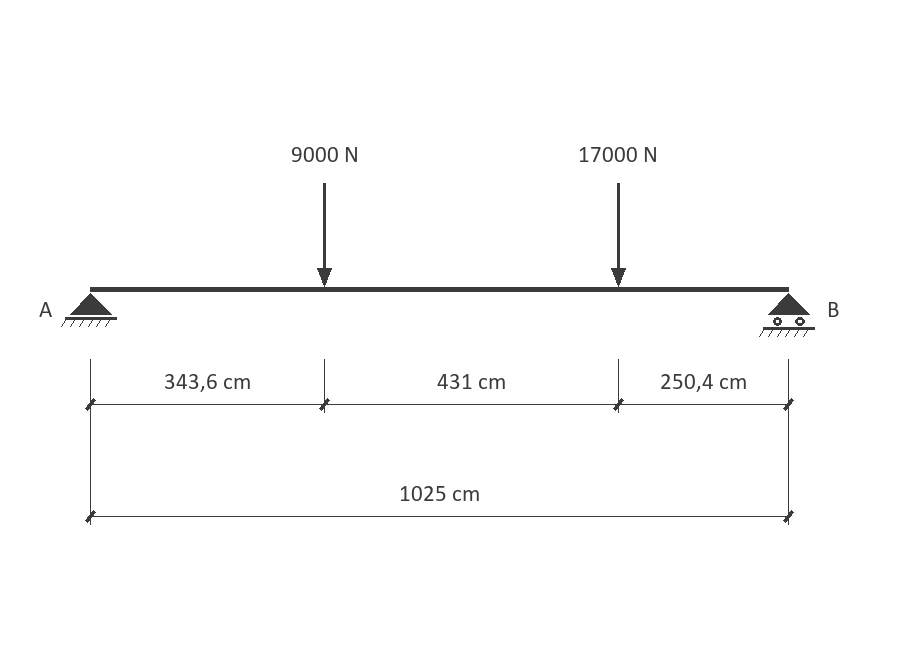pin_support: (61, 293, 117, 327)
point_load: (317, 183, 332, 287), (611, 183, 626, 287)
roller_support: (759, 293, 815, 337)
